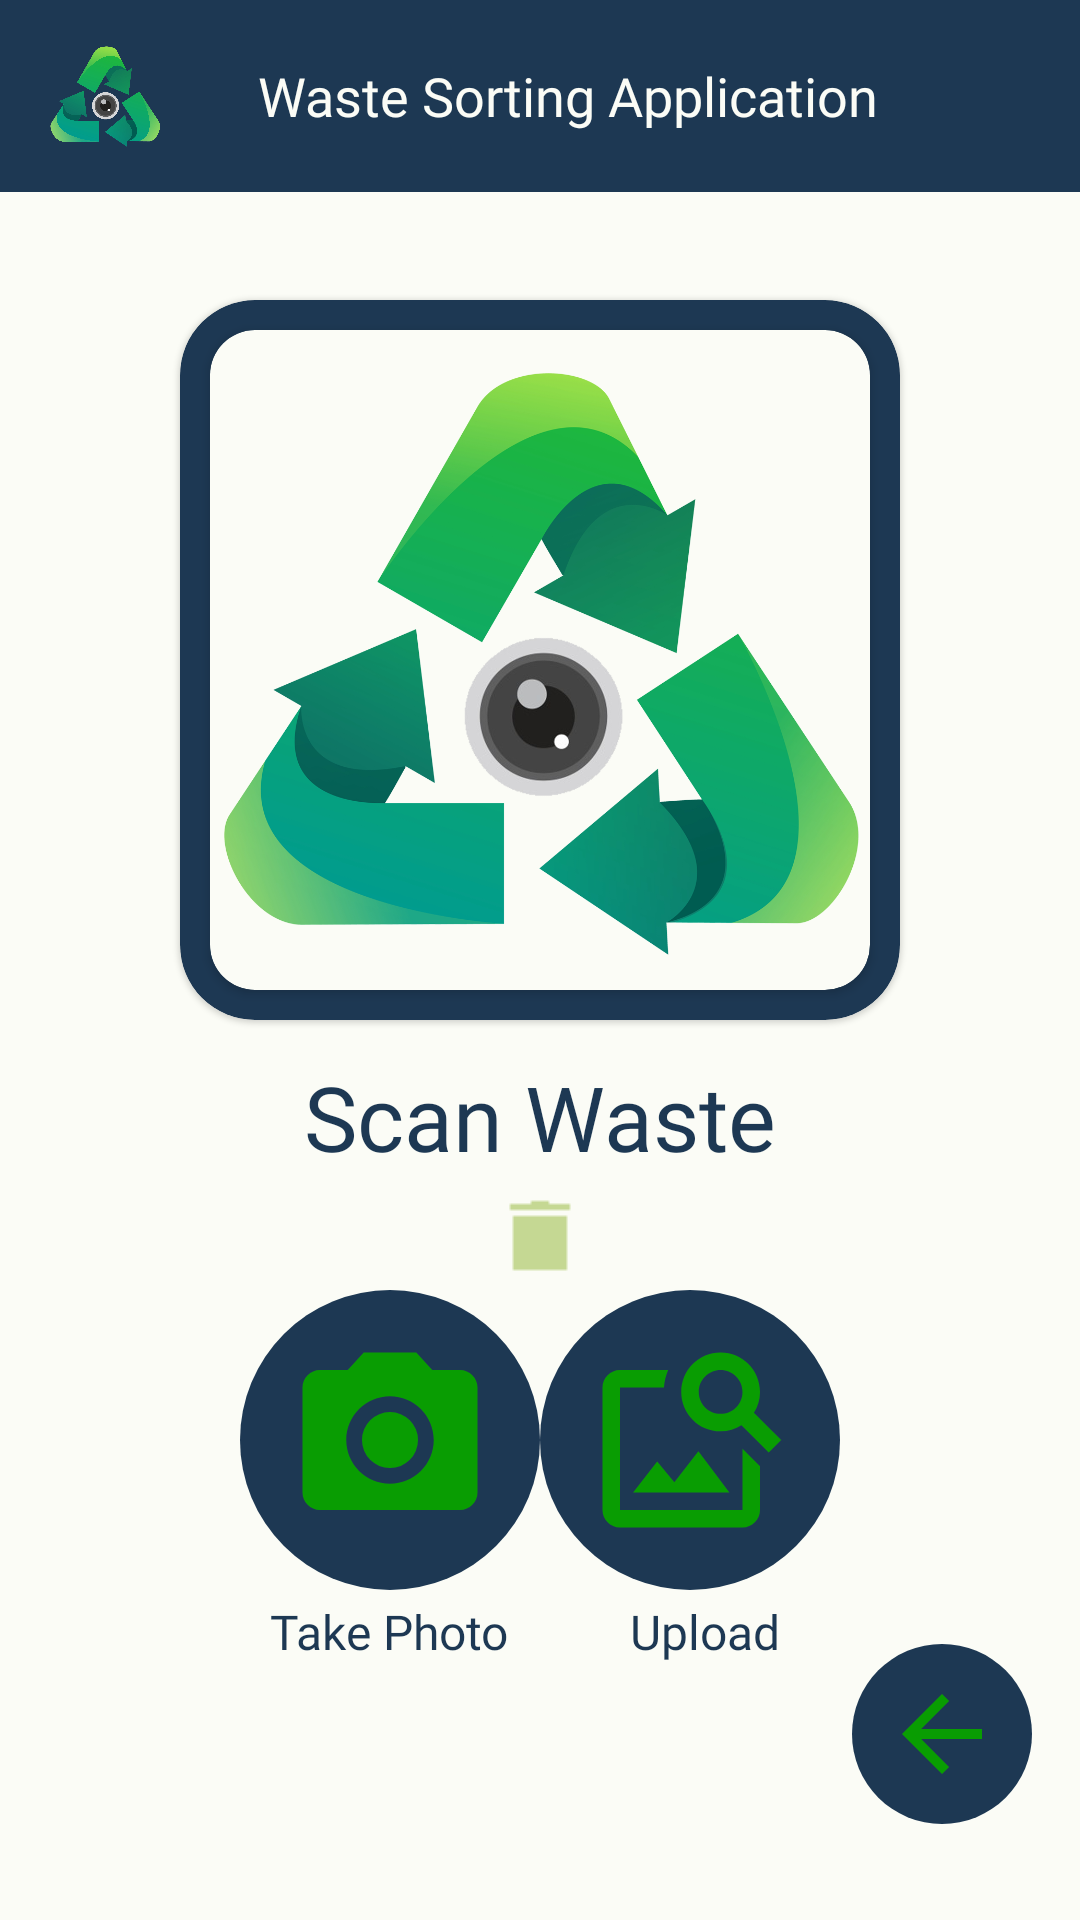

Locate icon controls on the screen. Image size 1080px x 1920px, boxes as (left=x1, top=y1, right=x2, bottom=y2).
arrow back: (left=852, top=1644, right=1032, bottom=1824)
photo camera: (left=240, top=1290, right=540, bottom=1590)
search: (left=540, top=1290, right=840, bottom=1590)
trash: (left=509, top=1200, right=571, bottom=1271)
